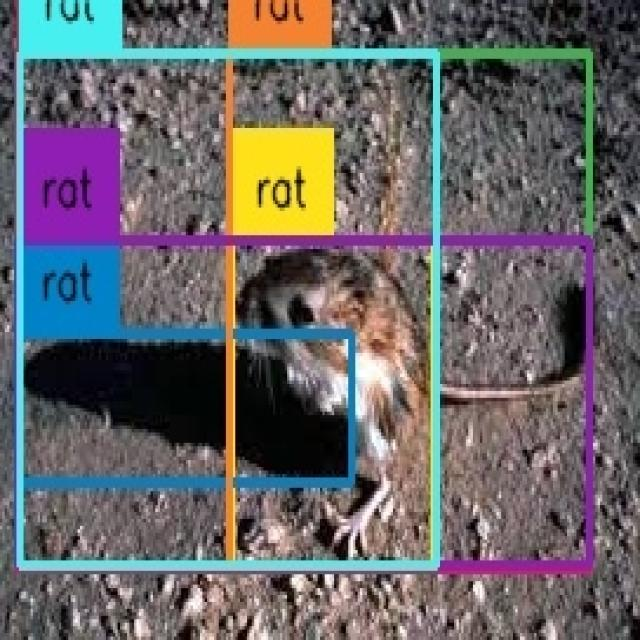rat: (18, 54, 590, 569), (19, 52, 438, 567), (18, 240, 590, 566), (230, 53, 590, 566), (230, 53, 438, 566), (231, 242, 435, 564), (18, 333, 352, 482)
